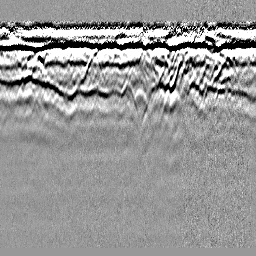cavity: (117, 79, 140, 118)
